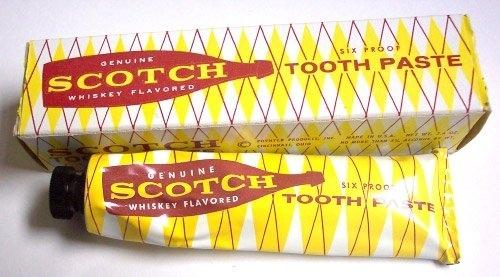toothpaste: (31, 134, 479, 274)
